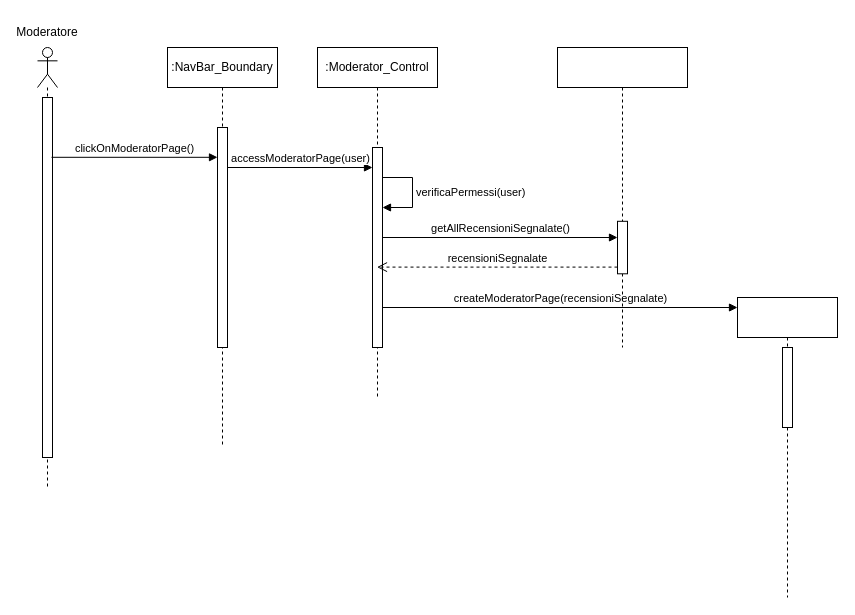
The diagram is 855 pixels wide and 615 high, and some of its shapes have lost their labels. Each missing label, with the centre of its shape:
":Catalogo_Recensioni" belongs at (622,197).
":Moderator_Page" belongs at (787,447).
